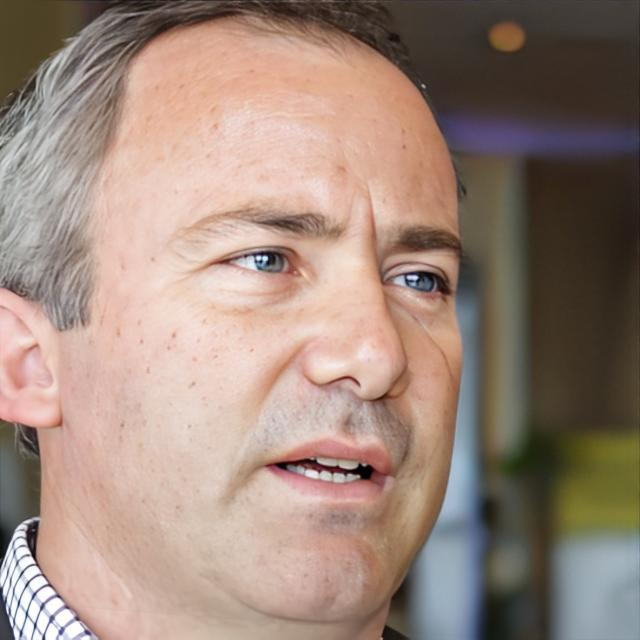disgust: (61, 8, 463, 624)
